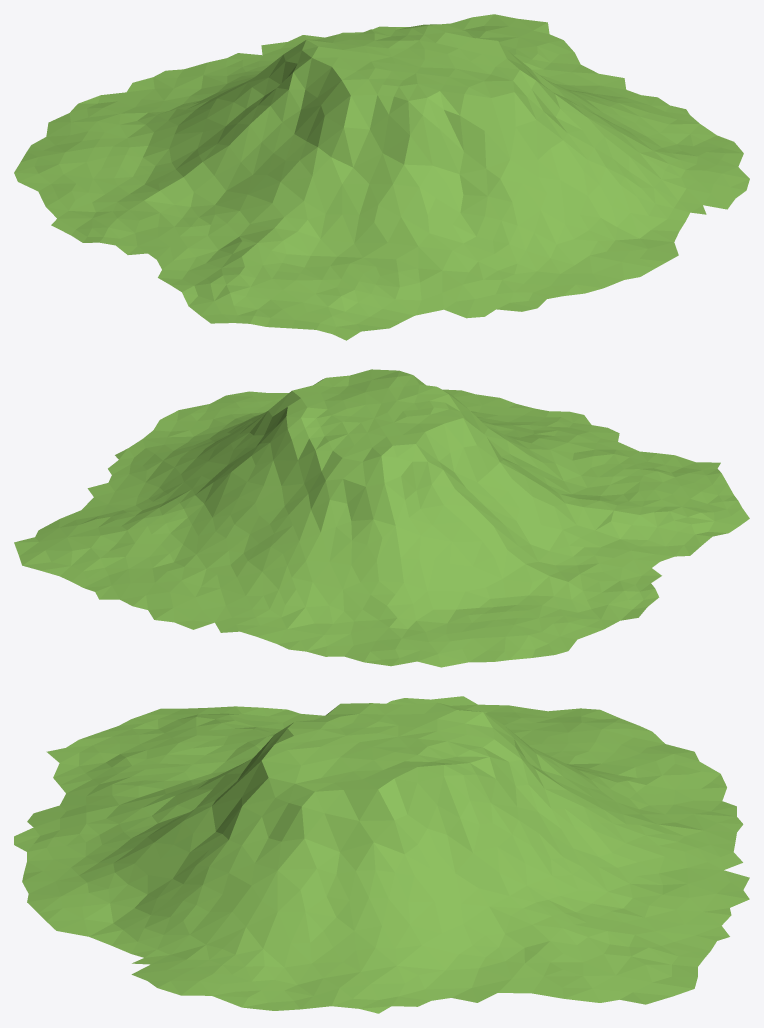
Rendered from MT_Mountain_L_b_20.fbx.
The picture shows the model from 3 angles, top to bottom: view 1: azimuth 30°, elevation 25°; view 2: azimuth 150°, elevation 25°; view 3: azimuth 270°, elevation 25°; orthographic projection. The views are drawn at different scales.
Parts seen in each view (by area): view 1: MT_Mountain_L_b_20; view 2: MT_Mountain_L_b_20; view 3: MT_Mountain_L_b_20.
Part boxes in pixels (x1,y1,x2,y2): MT_Mountain_L_b_20: [14, 14, 749, 340]; MT_Mountain_L_b_20: [14, 369, 749, 667]; MT_Mountain_L_b_20: [14, 696, 749, 1013].
Size of the model in its own units: 8984 by 1712 by 8827.
